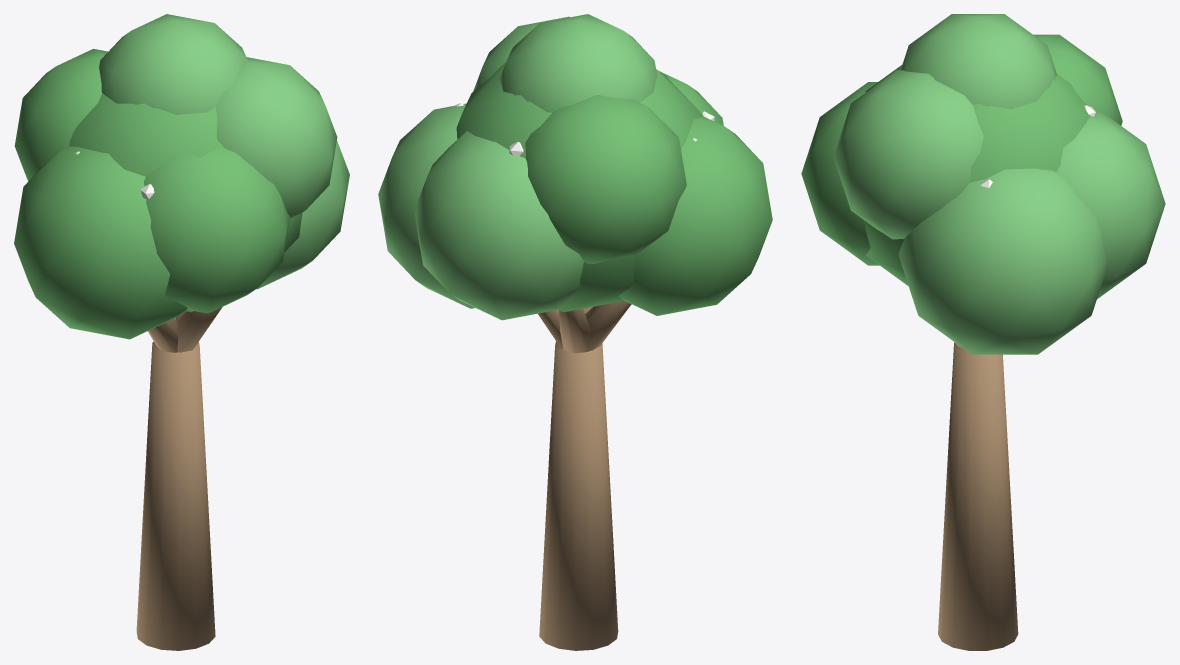
Rendered from agac.glb.
3 views of the same model, side by side, from view 1: azimuth 30°, elevation 25°; view 2: azimuth 150°, elevation 25°; view 3: azimuth 270°, elevation 25° (orthographic).
Visible parts, largest first — view 1: Agac; view 2: Agac; view 3: Agac.
Boxes of the visible parts, left/top/right/bottom form: Agac: left=14, top=14, right=349, bottom=650; Agac: left=378, top=14, right=772, bottom=650; Agac: left=801, top=14, right=1165, bottom=650.
Size of the model in its own units: 0.5389 by 0.95 by 0.5087.
